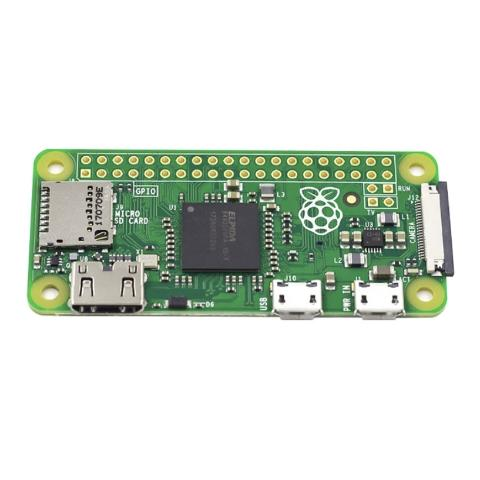Raspberry-Pi-Zero: (26, 147, 454, 319)
